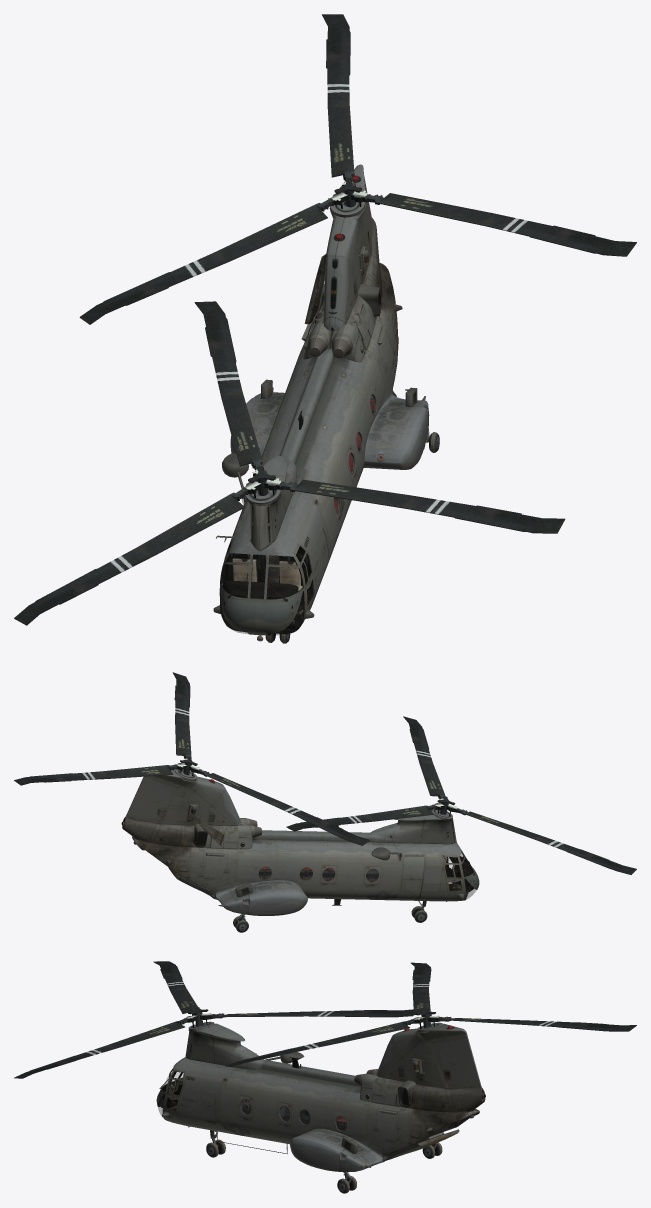
The model's file is seaknight.obj.
3 views of the same model, one above another, from view 1: azimuth 30°, elevation 25°; view 2: azimuth 150°, elevation 25°; view 3: azimuth 270°, elevation 25° (orthographic). The views are drawn at different scales.
Parts seen in each view (by area): view 1: chassis01, static_rotor03, static_rotor04, INT01, glass01; view 2: chassis01, static_rotor04, static_rotor03, INT01, glass01, mini01, d01; view 3: chassis01, static_rotor03, static_rotor04, INT01, glass01, back01.
Boxes of the visible parts, bbox=[...] form: chassis01: bbox=[219, 164, 429, 635]; static_rotor03: bbox=[14, 301, 565, 625]; static_rotor04: bbox=[79, 14, 636, 324]; INT01: bbox=[213, 175, 426, 641]; glass01: bbox=[220, 395, 375, 635]; chassis01: bbox=[122, 769, 479, 915]; static_rotor04: bbox=[14, 672, 369, 845]; static_rotor03: bbox=[286, 716, 636, 874]; INT01: bbox=[121, 779, 475, 901]; glass01: bbox=[259, 852, 476, 899]; mini01: bbox=[157, 808, 426, 921]; d01: bbox=[398, 879, 422, 898]; chassis01: bbox=[156, 1022, 485, 1172]; static_rotor03: bbox=[14, 961, 413, 1078]; static_rotor04: bbox=[225, 962, 636, 1066]; INT01: bbox=[159, 1021, 485, 1167]; glass01: bbox=[158, 1069, 345, 1130]; back01: bbox=[382, 1129, 459, 1161].
Size of the model in its own units: 756 by 367 by 832.
3 materials, 2 textured.
